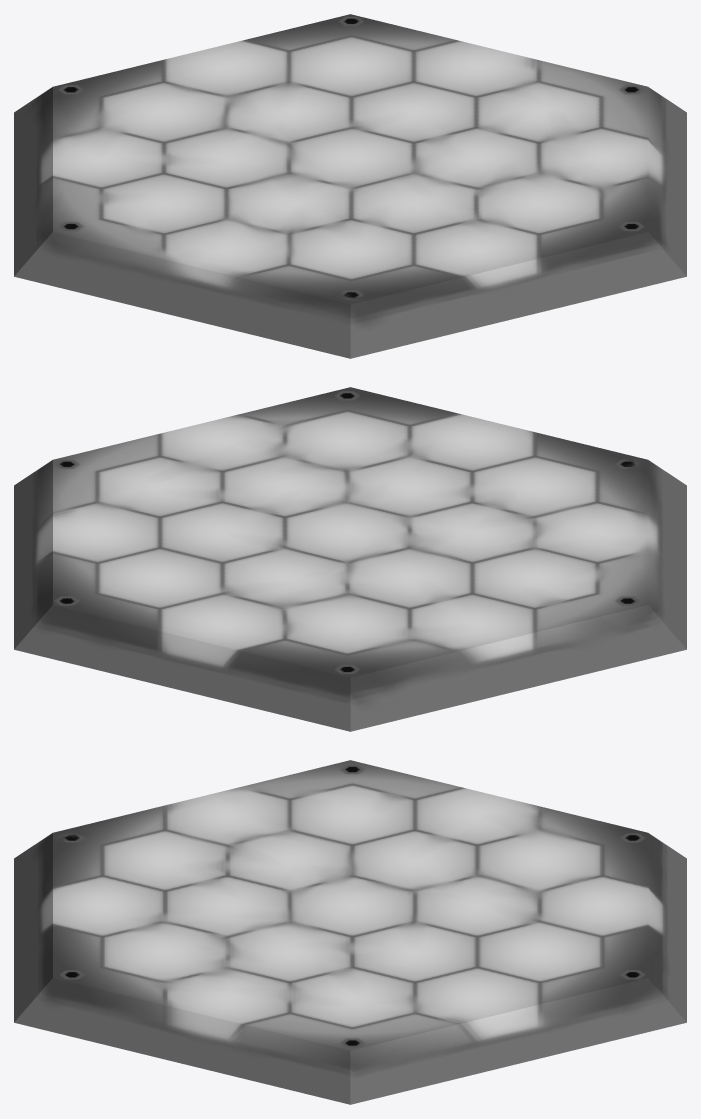
The model's file is tile1.fbx.
The picture shows the model from 3 angles, top to bottom: view 1: azimuth 30°, elevation 25°; view 2: azimuth 150°, elevation 25°; view 3: azimuth 270°, elevation 25°; orthographic projection.
Visible parts, largest first — view 1: Circle; view 2: Circle; view 3: Circle.
Boxes of the visible parts, x1,y1,x2,y2 form: Circle: [14, 14, 686, 358]; Circle: [14, 387, 686, 731]; Circle: [14, 760, 686, 1104].
Size of the model in its own units: 1.73 by 0.1 by 2.
